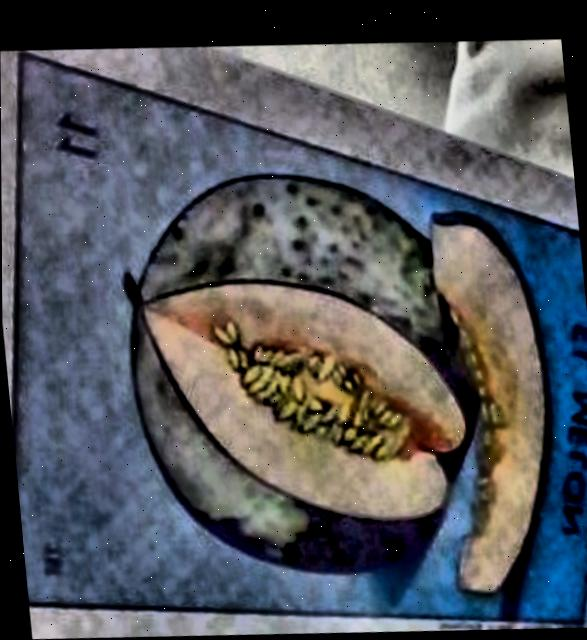El Melon: (10, 63, 587, 617)
